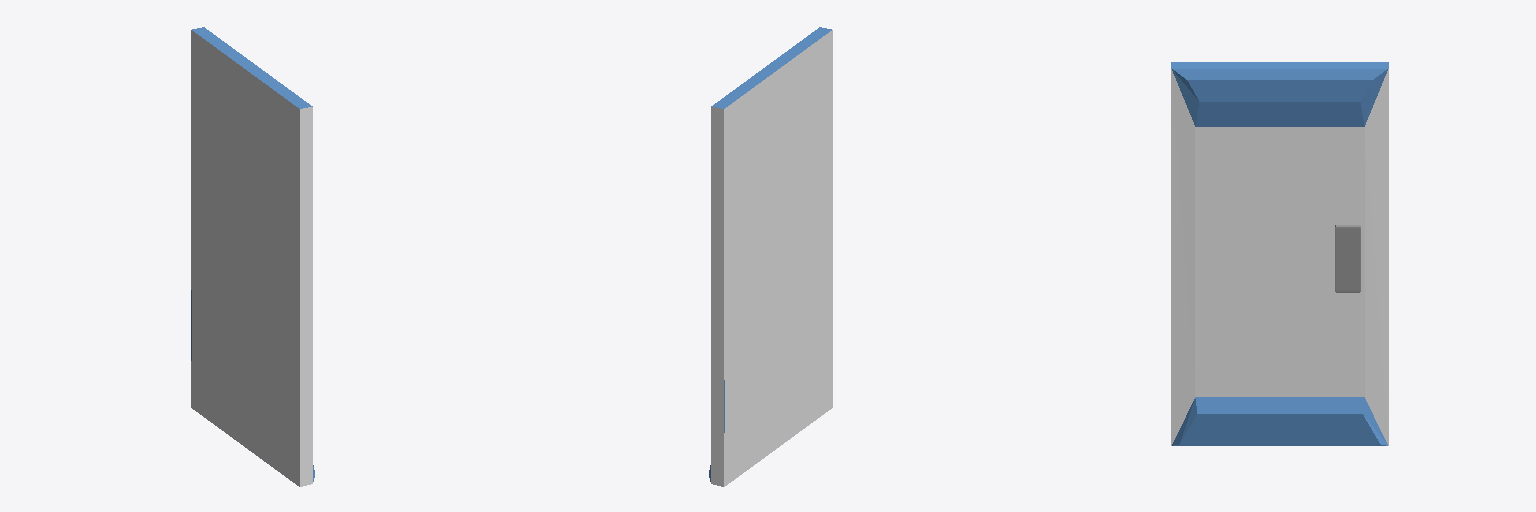
The picture shows the model from 3 angles: view 1: azimuth 30°, elevation 25°; view 2: azimuth 150°, elevation 25°; view 3: azimuth 270°, elevation 25°; orthographic projection.
Parts seen in each view (by area): view 1: Cube.001; view 2: Cube.001; view 3: Cube.001.
Part boxes in pixels (bbox=[...]): Cube.001: bbox=[191, 27, 314, 486]; Cube.001: bbox=[709, 27, 832, 486]; Cube.001: bbox=[1171, 62, 1388, 445].
Size of the model in its own units: 0.117 by 2.03 by 1.05.
1 materials, 1 textured.